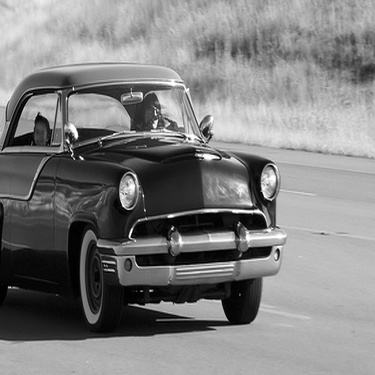car: (1, 59, 285, 340)
